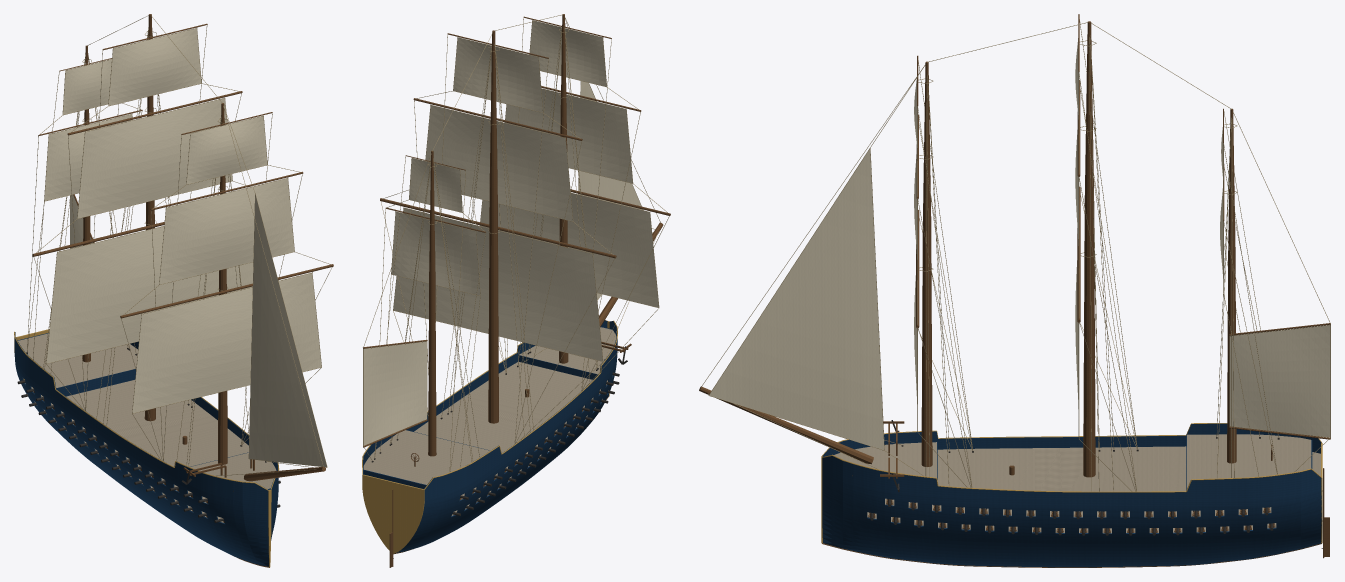
The picture shows the model from 3 angles, left to right: view 1: azimuth 30°, elevation 25°; view 2: azimuth 150°, elevation 25°; view 3: azimuth 270°, elevation 25°; orthographic projection. The views are drawn at different scales.
Visible parts, largest first — view 1: lod1_fore_square_00, lod1_hull_shell_starboard, lod1_main_square_00, lod1_jib_00, lod1_main_square_01, lod1_fore_square_01, lod1_main_deck, lod1_main_square_02, lod1_fore_square_02, lod1_castle_deck_0, lod1_mizzen_square_00, lod1_mizzen_square_01 (+13 smaller); view 2: lod1_main_square_00, lod1_main_square_01, lod1_hull_shell_starboard, lod1_fore_square_00, lod1_main_deck, lod1_fore_square_01, lod1_mizzen_gaff_02, lod1_mizzen_square_00, lod1_main_square_02, lod1_castle_deck_0, lod1_main, lod1_fore_square_02 (+15 smaller); view 3: lod1_hull_shell_port, lod1_jib_00, lod1_main_deck, lod1_mizzen_gaff_02, lod1_castle_deck_0, lod1_main, lod1_hull_shell_starboard, lod1_fore, lod1_mizzen, lod1_castle_deck_1, lod1_bowsprit, lod1_gunwale_port.
Boxes of the visible parts, box(x1,y1,x2,y2) form: lod1_fore_square_00: box(132, 273, 321, 413); lod1_hull_shell_starboard: box(14, 332, 268, 566); lod1_main_square_00: box(46, 226, 253, 363); lod1_jib_00: box(249, 195, 326, 466); lod1_main_square_01: box(77, 98, 232, 218); lod1_fore_square_01: box(159, 178, 294, 284); lod1_main_deck: box(66, 380, 248, 466); lod1_main_square_02: box(108, 28, 201, 105); lod1_fore_square_02: box(186, 116, 267, 184); lod1_castle_deck_0: box(18, 333, 137, 387); lod1_mizzen_square_00: box(44, 114, 132, 201); lod1_mizzen_square_01: box(63, 59, 111, 114); lod1_main_square_00: box(393, 208, 602, 361); lod1_main_square_01: box(425, 105, 572, 221); lod1_hull_shell_starboard: box(395, 321, 617, 553); lod1_fore_square_00: box(480, 193, 658, 307); lod1_main_deck: box(414, 362, 592, 452); lod1_fore_square_01: box(505, 88, 632, 183); lod1_mizzen_gaff_02: box(363, 341, 426, 445); lod1_mizzen_square_00: box(391, 212, 480, 295); lod1_main_square_02: box(453, 37, 542, 112); lod1_castle_deck_0: box(363, 430, 490, 484); lod1_main: box(488, 30, 498, 423); lod1_fore_square_02: box(530, 20, 606, 86); lod1_hull_shell_port: box(822, 456, 1321, 567); lod1_jib_00: box(709, 149, 884, 449); lod1_main_deck: box(937, 446, 1320, 491); lod1_mizzen_gaff_02: box(1230, 325, 1330, 437); lod1_castle_deck_0: box(1187, 434, 1311, 488); lod1_main: box(1083, 21, 1095, 477); lod1_hull_shell_starboard: box(822, 423, 1321, 456); lod1_fore: box(921, 61, 932, 466); lod1_mizzen: box(1227, 108, 1236, 463); lod1_castle_deck_1: box(834, 442, 936, 477); lod1_bowsprit: box(699, 386, 873, 464); lod1_gunwale_port: box(822, 454, 1322, 492).
Bounding box in the file's own units: 34.1 × 65.13 × 68.29.
Materials: 7 (7 with a texture image).
